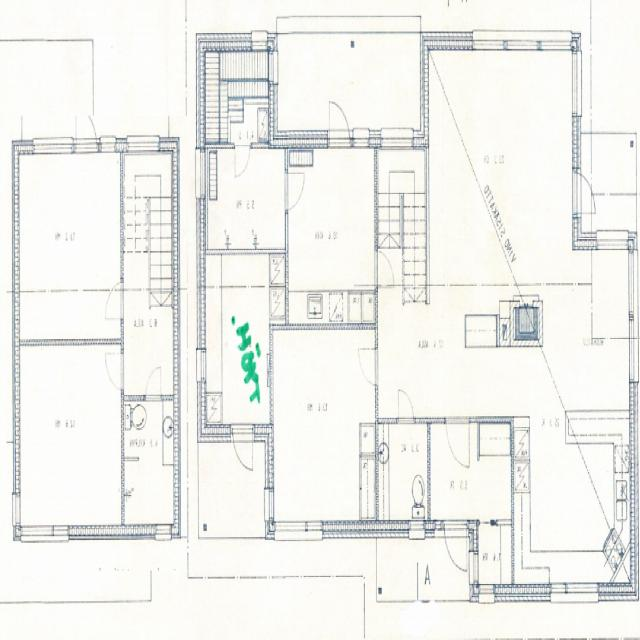door: (445, 416, 470, 472), (445, 522, 466, 584), (232, 424, 253, 484), (573, 172, 602, 214), (76, 90, 96, 148), (330, 91, 349, 148), (356, 348, 378, 386), (285, 173, 307, 210), (374, 252, 396, 288), (102, 282, 124, 318), (103, 353, 124, 388), (399, 383, 415, 422), (146, 362, 161, 402), (235, 141, 250, 178)
